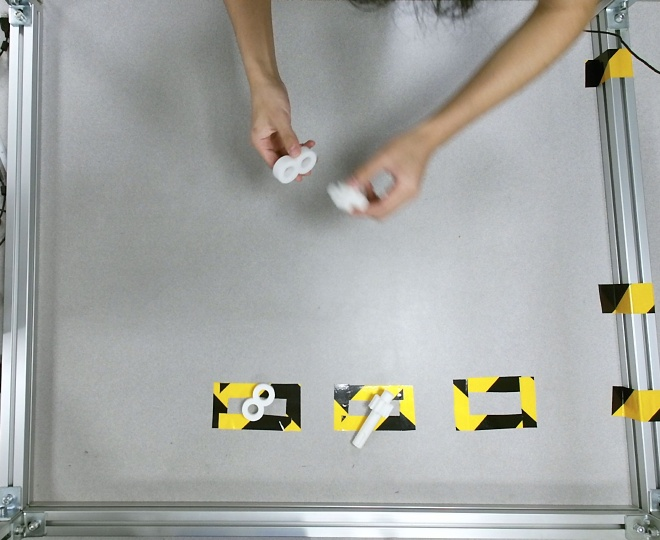stage_1: (273, 146, 316, 183)
